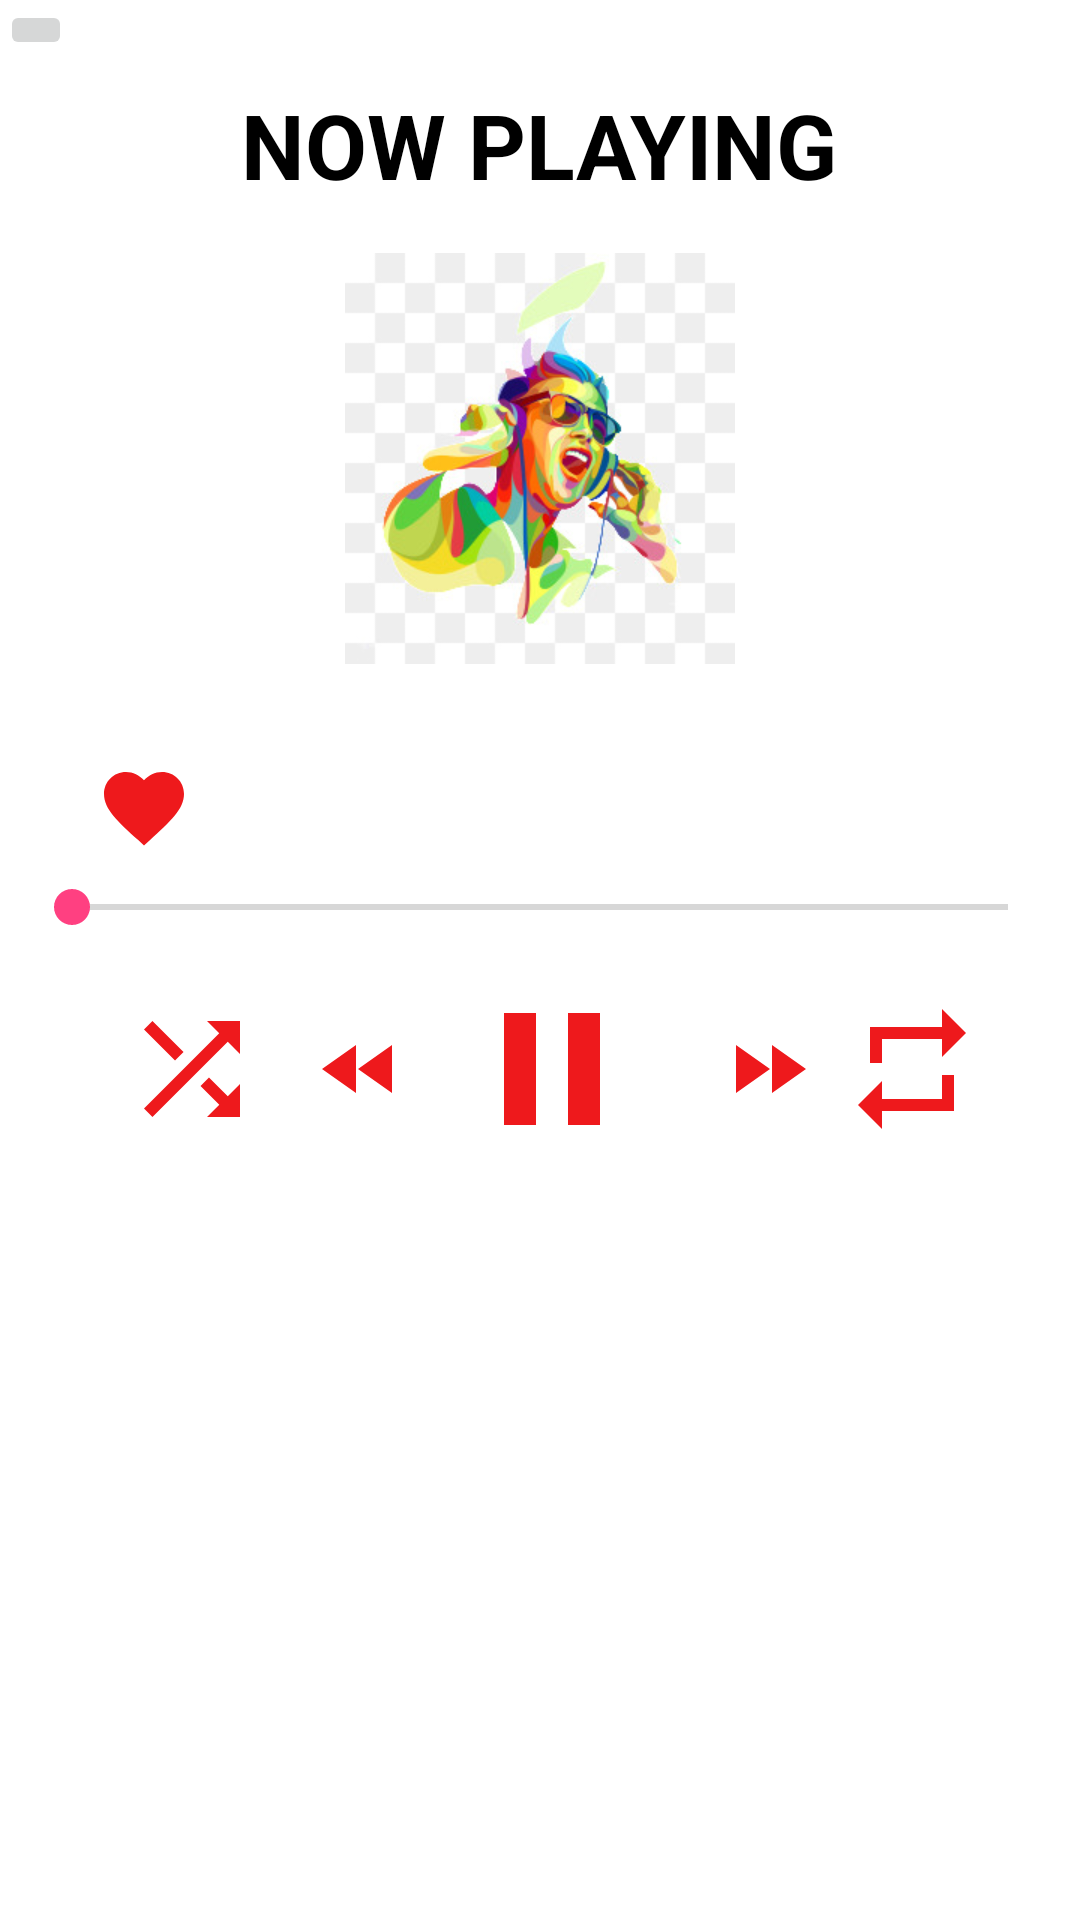

Icon click points for this 1080×1920 phone screenshot, format (x,y):
fast forward: (771,1069)
fast rewind: (357,1069)
favorite: (144,809)
pause: (552,1069)
repeat: (912,1069)
shuffle: (192,1069)
